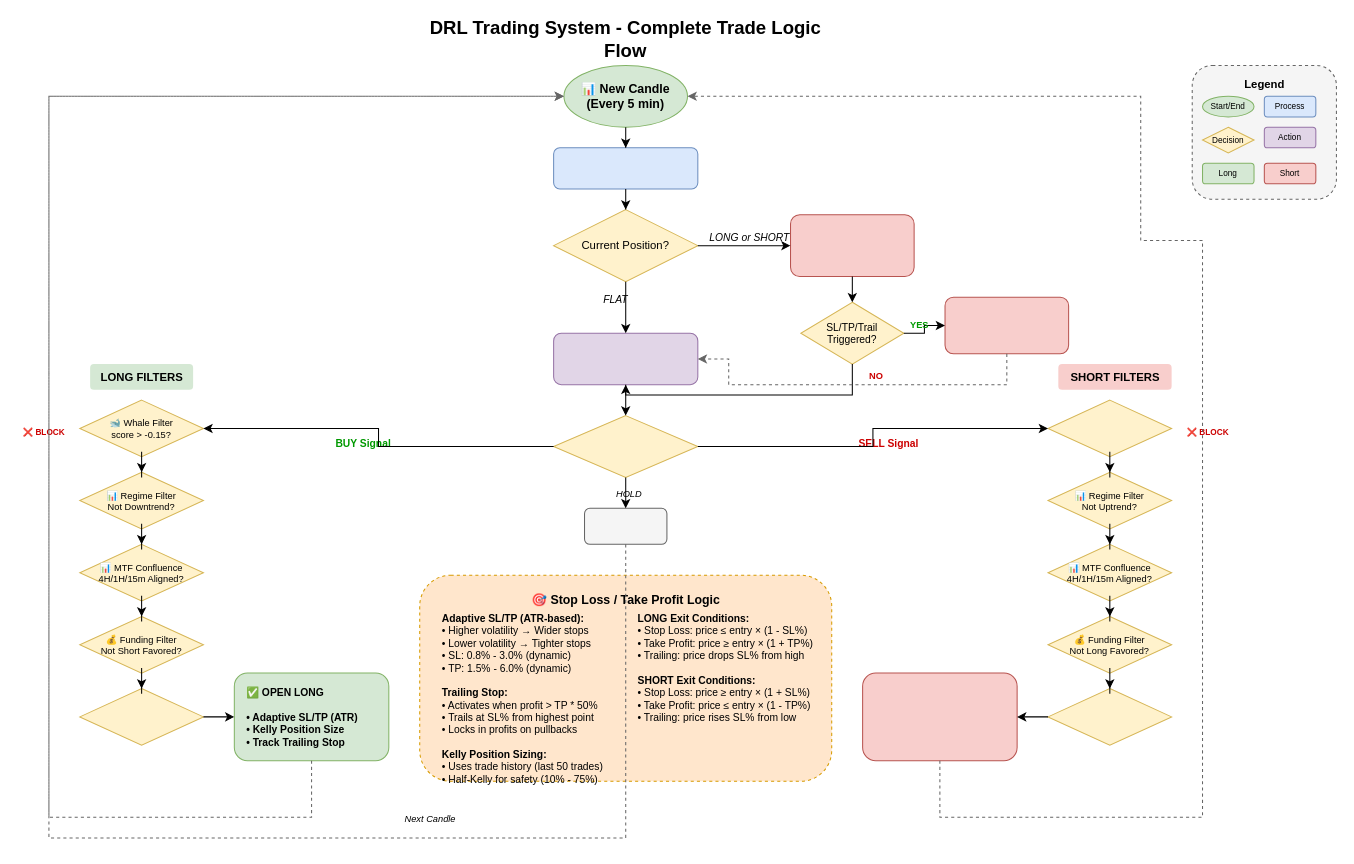
Image size: 1354x864. Some labels were removed from this diagram. Here are the shapes that lost their labels. From the top down, the box of each, then its label:
(553, 147, 698, 189): Fetch Market Data (720 candles)
(789, 214, 914, 277): Check Stop Loss / Take Profit / Trailing Stop
(944, 296, 1069, 354): ❌ CLOSE POSITION Record P&L Update Kelly
(553, 332, 698, 385): 🤖 PPO Model Prediction (94 Features)
(553, 415, 698, 477): Model Action?
(1047, 399, 1172, 457): 🐋 Whale Filter score < 0.15?
(583, 507, 667, 544): HOLD (Wait)
(79, 688, 203, 745): 📊 Order Flow Not Bearish?
(862, 672, 1017, 761): ✅ OPEN SHORT • Adaptive SL/TP (ATR) • Kelly Position Size • Track Trailing Stop
(1047, 688, 1172, 745): 📊 Order Flow Not Bullish?
